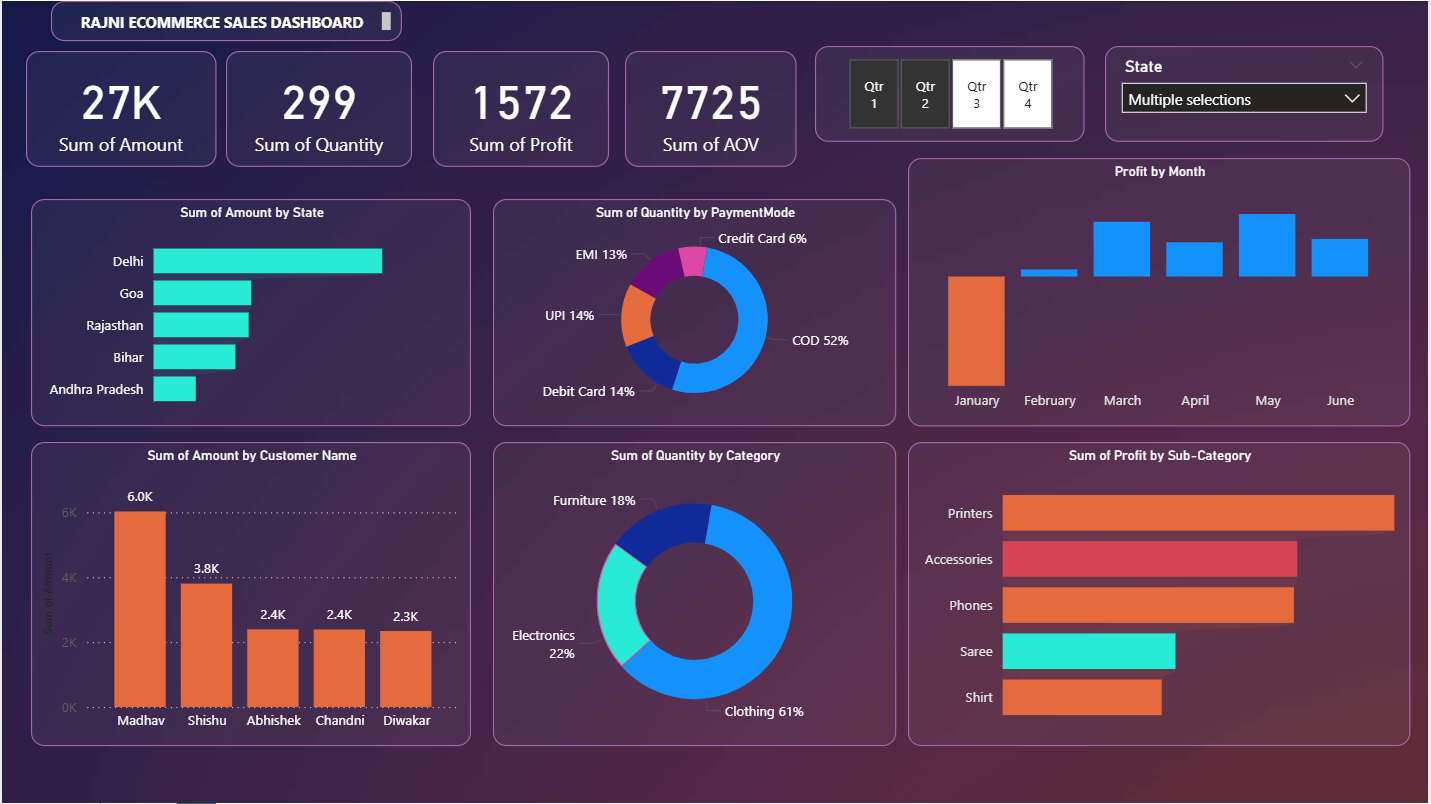

What the dashboard file says about the page in this screenshot:
{"tool":"powerbi","page":{"name":"Page 1","canvas":[1280,720],"ordinal":0},"visuals":[{"type":"columnChart","title":"Profit by Month","fields":{"Category":["Orders.Order Date.Variation.Date Hierarchy.Month"],"Y":["Sum(Details.Profit)"]},"box":[813.4,140.9,450.7,240.6],"z":0},{"type":"barChart","fields":{"Category":["Details.Sub-Category"],"Y":["Sum(Details.Profit)"]},"box":[813.4,395.9,450.7,272.9],"z":1000},{"type":"donutChart","fields":{"Category":["Details.Category"],"Y":["Sum(Details.Quantity)"]},"box":[440.8,395.9,361.8,272.9],"z":2000},{"type":"donutChart","fields":{"Y":["Sum(Details.Quantity)"],"Category":["Details.PaymentMode"]},"box":[440.8,177.8,361.8,203.8],"z":3000},{"type":"card","fields":{"Values":["Sum(Details.Amount)"]},"box":[21.5,44.9,170.6,104.1],"z":4000},{"type":"card","fields":{"Values":["Sum(Details.Quantity)"]},"box":[201.1,44.9,167,104.1],"z":5000},{"type":"card","fields":{"Values":["Sum(Details.Profit)"]},"box":[386.9,44.9,158,104.1],"z":6000},{"type":"card","fields":{"Values":["Sum(Details.AOV)"]},"box":[559.3,44.9,143.6,104.1],"z":7000},{"type":"barChart","fields":{"Y":["Sum(Details.Amount)"],"Category":["Orders.State"]},"box":[26,177.8,395,203.8],"z":8000},{"type":"columnChart","fields":{"Category":["Orders.Customer Name"],"Y":["Sum(Details.Amount)"]},"box":[26,395.9,395,272.9],"z":9000},{"type":"textbox","box":[43.8,0,315.1,36],"z":10000},{"type":"slicer","fields":{"Values":["Orders.Order Date.Variation.Date Hierarchy.Quarter"]},"box":[729.9,40.4,242.4,86.2],"z":11000},{"type":"slicer","fields":{"Values":["Orders.State"]},"box":[990.2,40.4,249.6,86.2],"z":12000}]}

Visuals, with their boxes in screenshot pixels (x1, y1, x2, y2), scaled from the page's 1280x720 canvas onto the 1431x804 screenshot:
"Profit by Month" columnChart: x1=909 y1=157 x2=1413 y2=426
barChart - Details.Sub-Category x Sum(Details.Profit): x1=909 y1=442 x2=1413 y2=747
donutChart - Details.Category x Sum(Details.Quantity): x1=493 y1=442 x2=897 y2=747
donutChart - Sum(Details.Quantity) x Details.PaymentMode: x1=493 y1=199 x2=897 y2=426
card - Sum(Details.Amount): x1=24 y1=50 x2=215 y2=166
card - Sum(Details.Quantity): x1=225 y1=50 x2=412 y2=166
card - Sum(Details.Profit): x1=433 y1=50 x2=609 y2=166
card - Sum(Details.AOV): x1=625 y1=50 x2=786 y2=166
barChart - Sum(Details.Amount) x Orders.State: x1=29 y1=199 x2=471 y2=426
columnChart - Orders.Customer Name x Sum(Details.Amount): x1=29 y1=442 x2=471 y2=747
textbox: x1=49 y1=0 x2=401 y2=40
slicer - Orders.Order Date.Variation.Date Hierarchy.Quarter: x1=816 y1=45 x2=1087 y2=141
slicer - Orders.State: x1=1107 y1=45 x2=1386 y2=141
